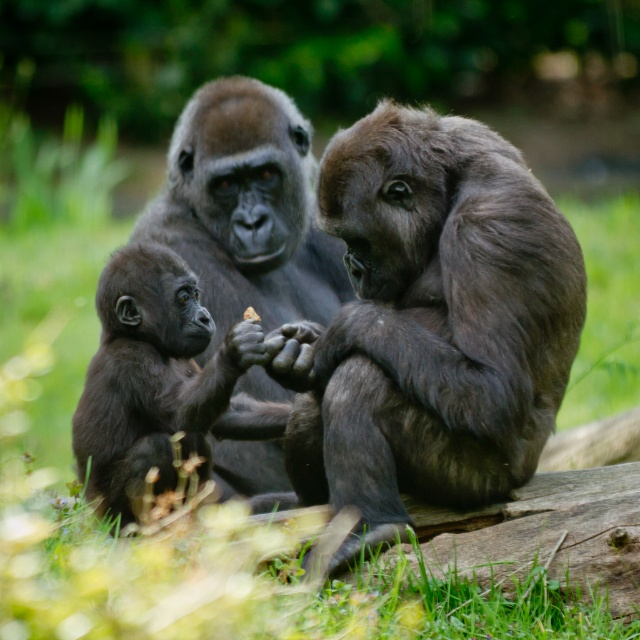Monkey: (252, 98, 587, 566), (124, 75, 346, 495), (73, 241, 266, 542)
